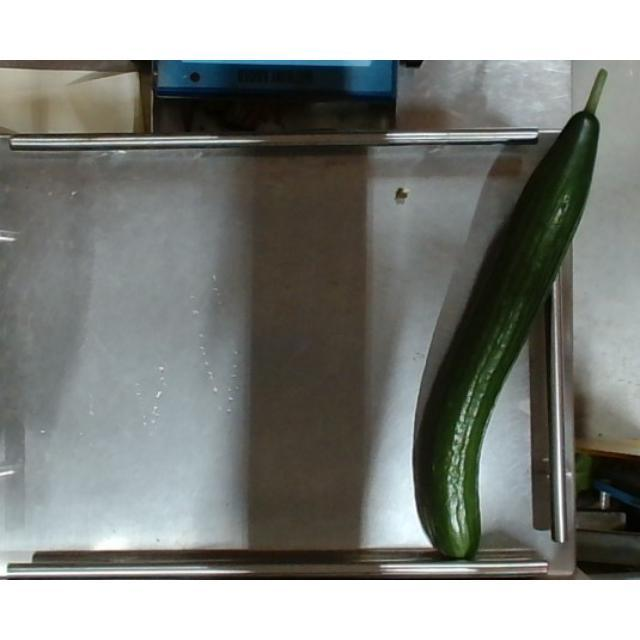cucumber: (412, 67, 610, 561)
